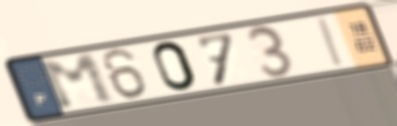0: (150, 40, 200, 93)
3: (247, 22, 295, 82)
6: (100, 46, 150, 102)
7: (194, 30, 236, 87)
I: (316, 15, 349, 70)
M: (35, 50, 119, 112)
